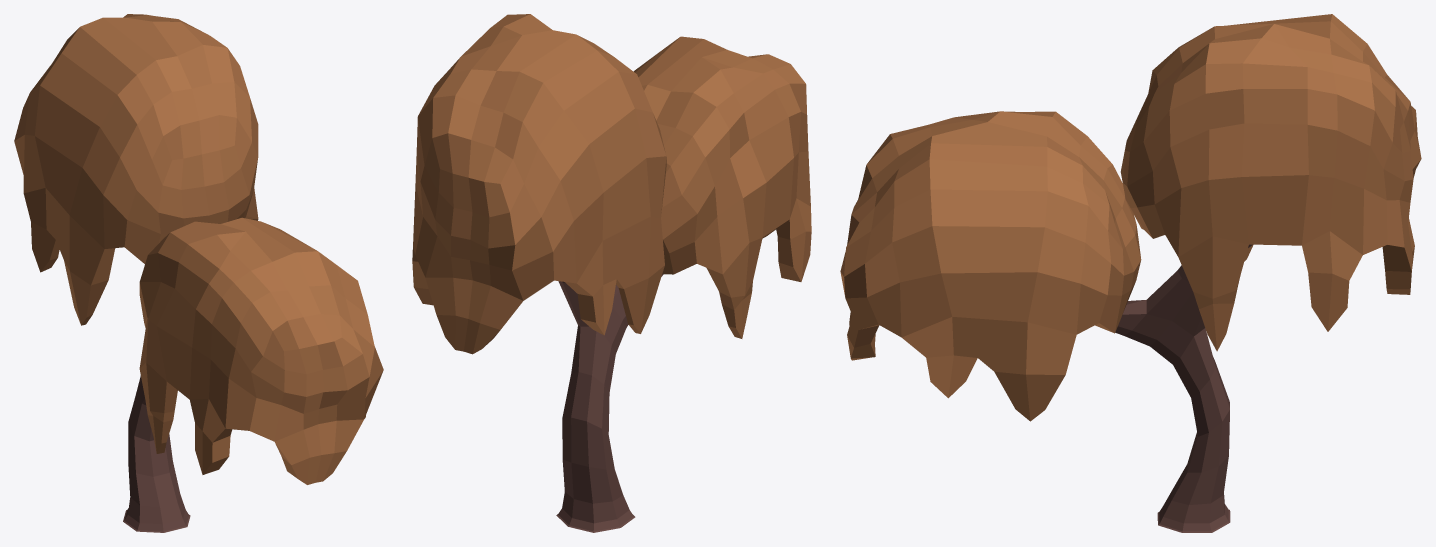
The picture shows the model from 3 angles, left to right: view 1: azimuth 30°, elevation 25°; view 2: azimuth 150°, elevation 25°; view 3: azimuth 270°, elevation 25°; orthographic projection. The views are drawn at different scales.
Visible parts, largest first — view 1: Willow_Autumn_5; view 2: Willow_Autumn_5; view 3: Willow_Autumn_5.
Boxes of the visible parts, x1,y1,x2,y2 form: Willow_Autumn_5: (14, 14, 383, 532); Willow_Autumn_5: (412, 14, 811, 532); Willow_Autumn_5: (840, 14, 1421, 532).
Bounding box in the file's own units: 1.01 × 2.42 × 2.49.
